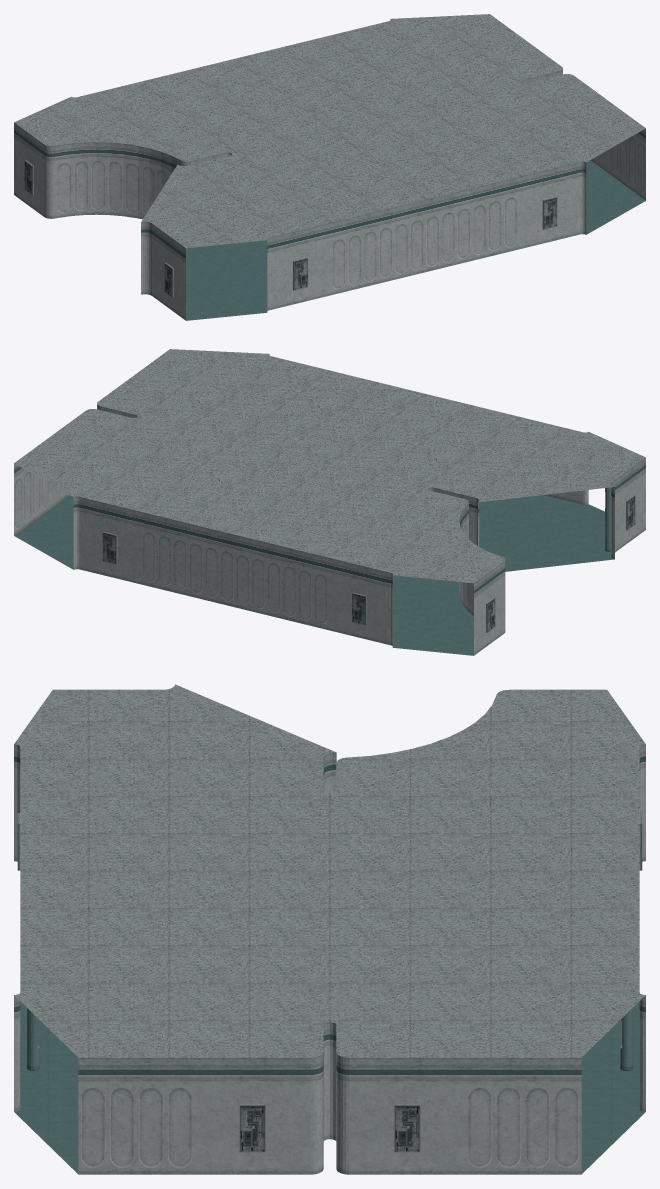
File: mun_all_hospital_s01_r2_roomb_mesh_r2.fbx
The picture shows the model from 3 angles, top to bottom: view 1: azimuth 30°, elevation 25°; view 2: azimuth 150°, elevation 25°; view 3: azimuth 270°, elevation 25°; orthographic projection. The views are drawn at different scales.
Parts seen in each view (by area): view 1: mesh_node; view 2: mesh_node; view 3: mesh_node.
Part boxes in pixels (box(x1,y1,x2,y2)): mesh_node: box(14, 14, 645, 320); mesh_node: box(14, 349, 645, 655); mesh_node: box(14, 684, 645, 1174).
Size of the model in its own units: 34.35 by 5 by 24.5.
